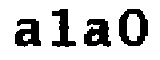0: (117, 3, 150, 50)
1: (47, 4, 78, 50)
a: (12, 18, 43, 48), (82, 18, 111, 47)
